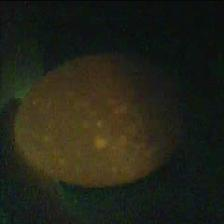fertile: (13, 53, 190, 187)
